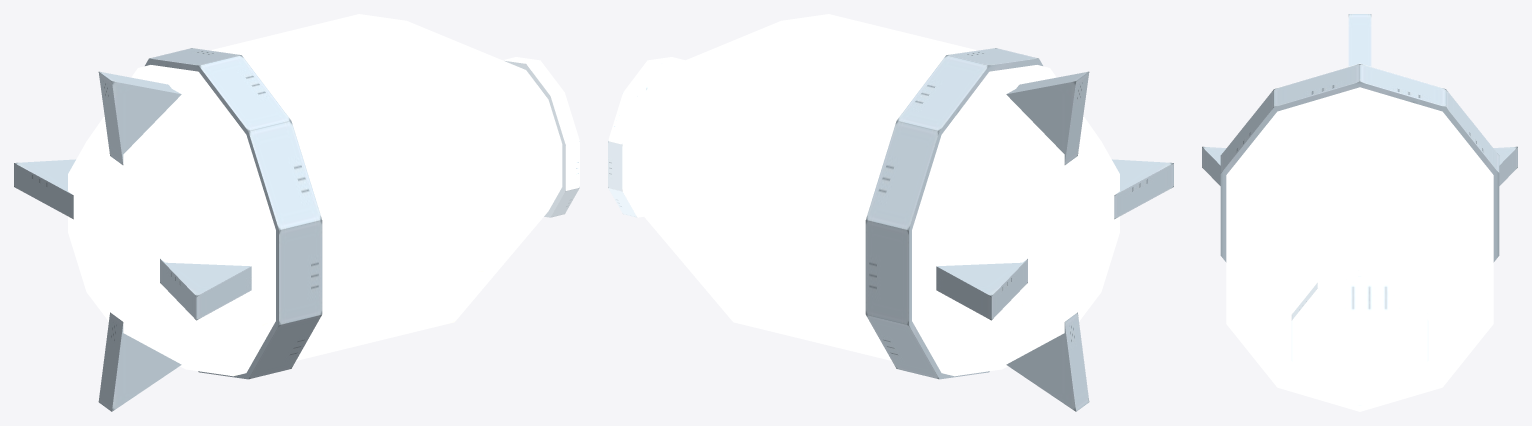
Rendered from explosive.glb.
3 views of the same model, side by side, from view 1: azimuth 30°, elevation 25°; view 2: azimuth 150°, elevation 25°; view 3: azimuth 270°, elevation 25° (orthographic). The views are drawn at different scales.
Parts seen in each view (by area): view 1: explosive; view 2: explosive; view 3: explosive.
Boxes of the visible parts, left/top/right/bottom form: explosive: left=14, top=14, right=579, bottom=411; explosive: left=608, top=14, right=1173, bottom=411; explosive: left=1202, top=14, right=1517, bottom=411.
Bounding box in the file's own units: 0.1515 × 0.11 × 0.11.
Materials: 3 (3 with a texture image).
